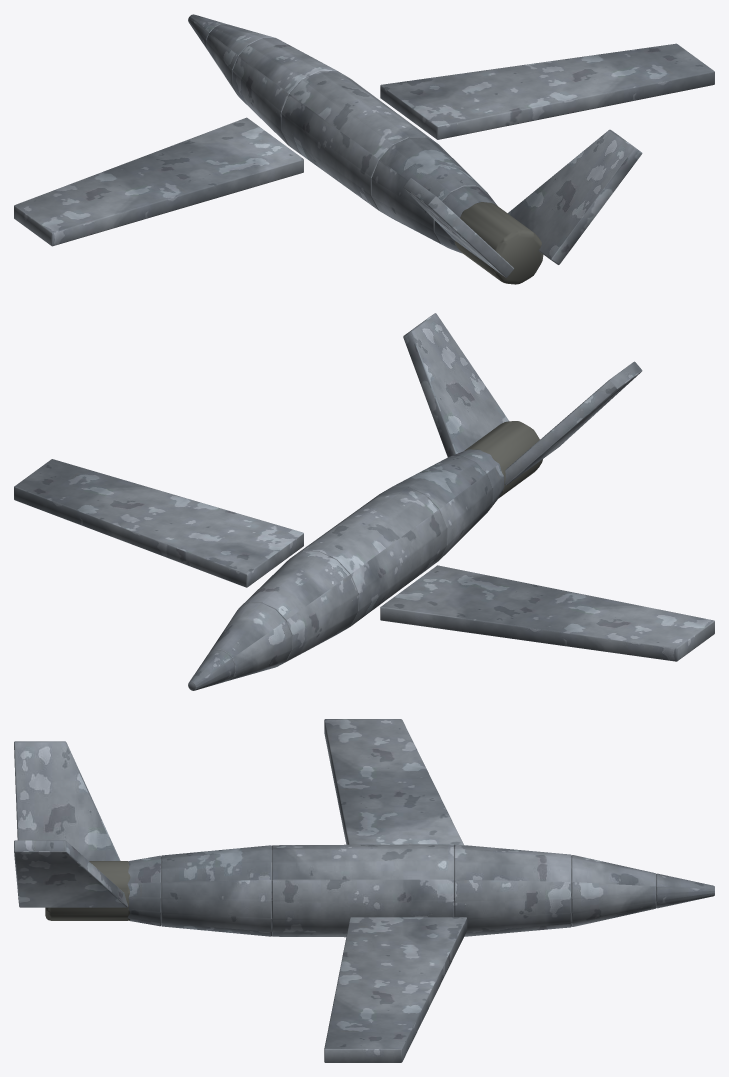
The model's file is uav_e7_us_loiter_LOD0.glb.
3 renders of one model, top to bottom at view 1: azimuth 30°, elevation 25°; view 2: azimuth 150°, elevation 25°; view 3: azimuth 270°, elevation 25°, orthographic. The views are drawn at different scales.
Parts seen in each view (by area): view 1: uav_e7_us_loiter_LOD0_body, uav_e7_us_loiter_LOD0_gun; view 2: uav_e7_us_loiter_LOD0_body, uav_e7_us_loiter_LOD0_gun; view 3: uav_e7_us_loiter_LOD0_body, uav_e7_us_loiter_LOD0_gun.
Part boxes in pixels (bbox=[...]): uav_e7_us_loiter_LOD0_body: bbox=[14, 14, 714, 277]; uav_e7_us_loiter_LOD0_gun: bbox=[454, 202, 543, 284]; uav_e7_us_loiter_LOD0_body: bbox=[14, 313, 714, 690]; uav_e7_us_loiter_LOD0_gun: bbox=[464, 421, 542, 497]; uav_e7_us_loiter_LOD0_body: bbox=[14, 719, 714, 1062]; uav_e7_us_loiter_LOD0_gun: bbox=[45, 861, 130, 920].
Size of the model in its own units: 3 by 0.6027 by 2.69.
2 materials, 1 textured.
